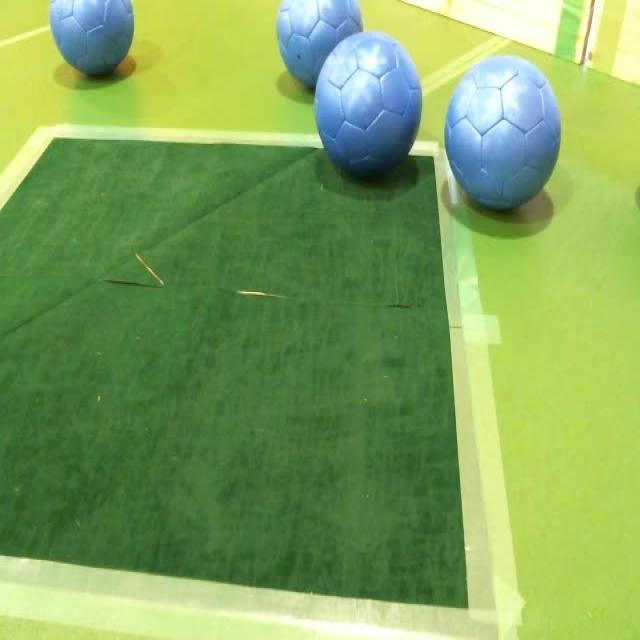blue_ball: (443, 55, 563, 214), (313, 33, 425, 180), (274, 0, 361, 89), (50, 0, 136, 71)
